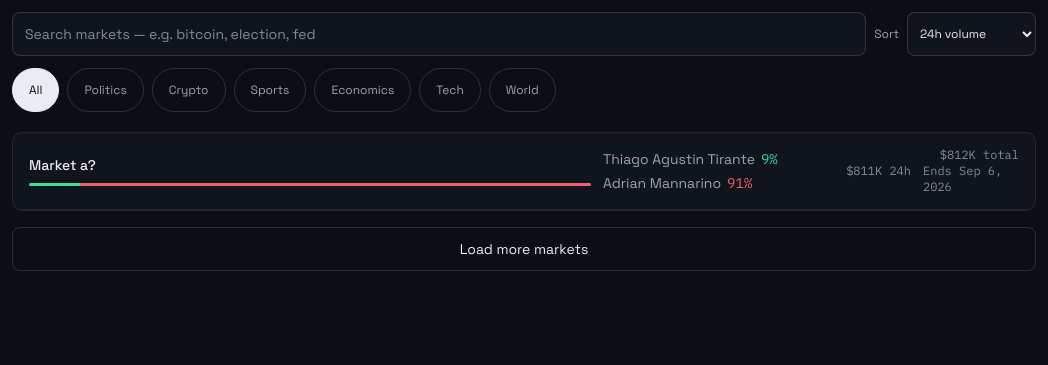
it: a changed query never reuses a cursor (UX-1) › starts a fresh page when the sort changes
The image size is (1048, 365).
Expected: the heading "Market a?" is shown, [29,156,96,174]
Click the button "Load more markets" at (524, 249), box [12,227,1036,271]
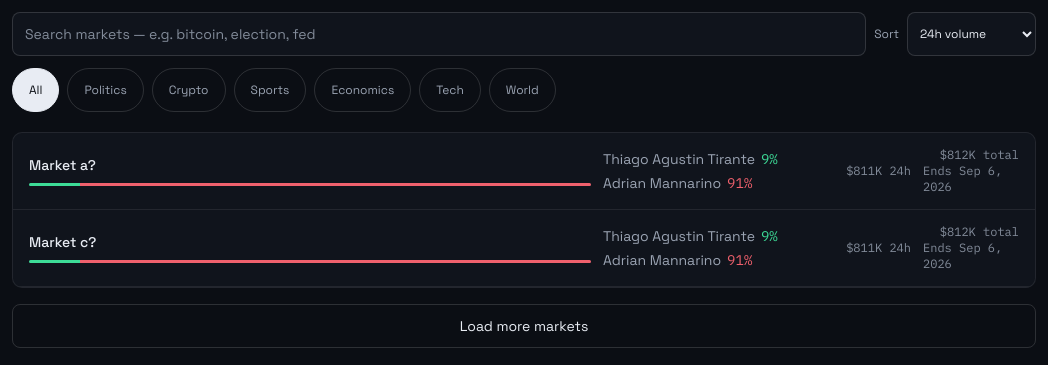
Expected: the heading "Market c?" is shown, [29,233,96,251]
Select "Ending soonest" in the dropdown labelled "Sort" at (972, 34), box [907,12,1036,56]
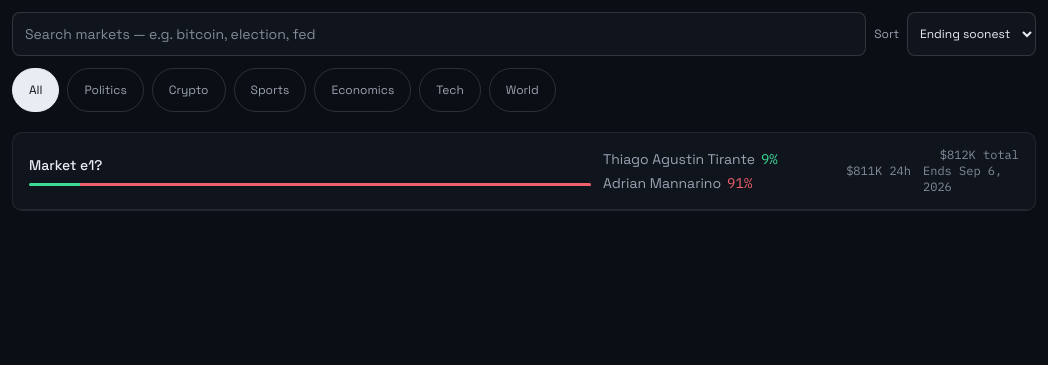
Expected: the text "Market c?" is not shown
Expected: the heading "Market e1?" is shown, [29,156,102,174]
